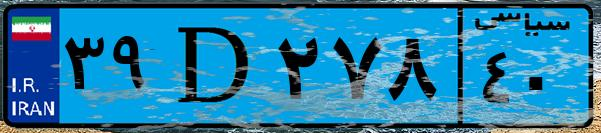0: (525, 38, 570, 115)
2: (270, 28, 330, 110)
3: (57, 26, 110, 100)
4: (475, 38, 525, 113)
7: (330, 28, 385, 110)
8: (385, 28, 445, 110)
9: (110, 28, 158, 98)
D: (158, 12, 270, 120)
